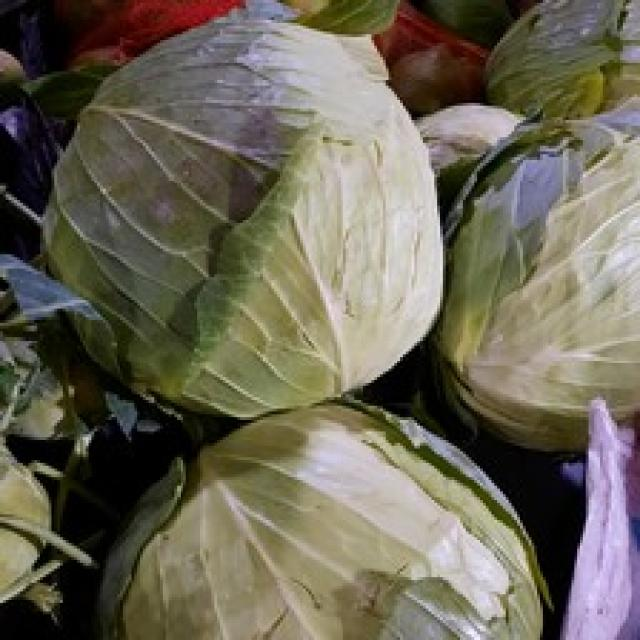Cabbage: (37, 0, 446, 420)
